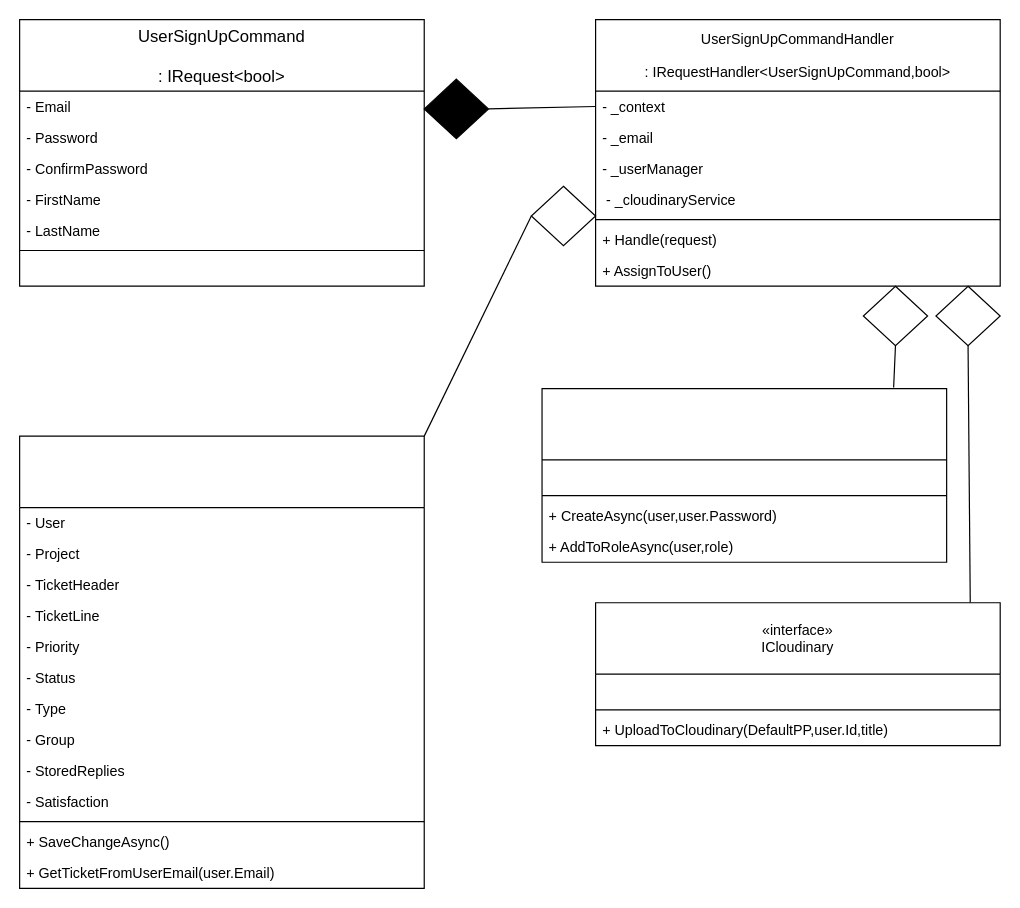
The diagram is 1020 pixels wide and 908 high, and some of its shapes have lost their labels. The shapes that lost their labels are listed below. From the top down, each one's box as (x1, y1, x2, y2) in pixels, then its label:
(541, 387, 947, 562): «interface» IIdentityService
(18, 435, 424, 888): «interface» IAppliciationDbContext
